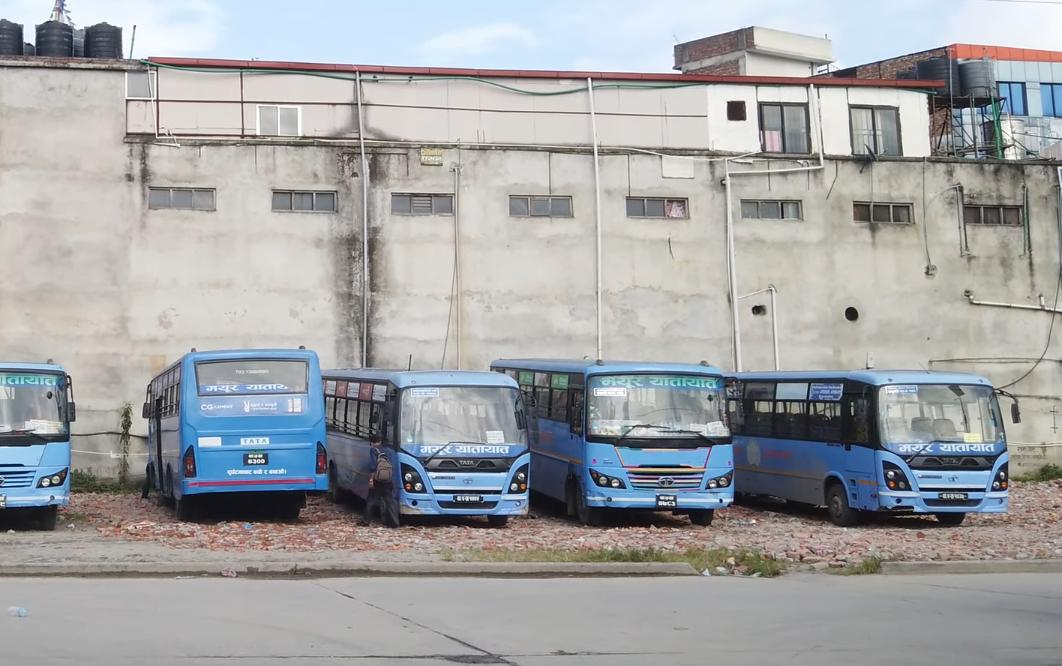bus: (723, 356, 1030, 534), (490, 343, 747, 532), (318, 357, 533, 536), (140, 337, 332, 526)
